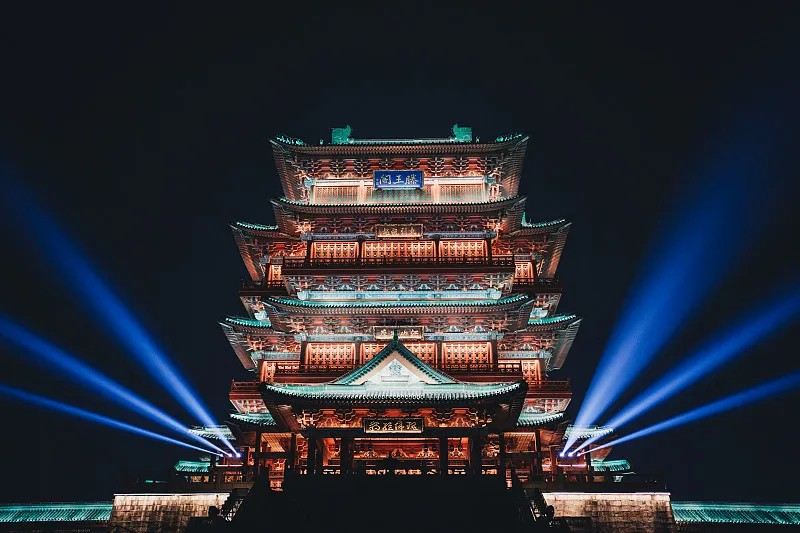Teng: (174, 124, 637, 481)
